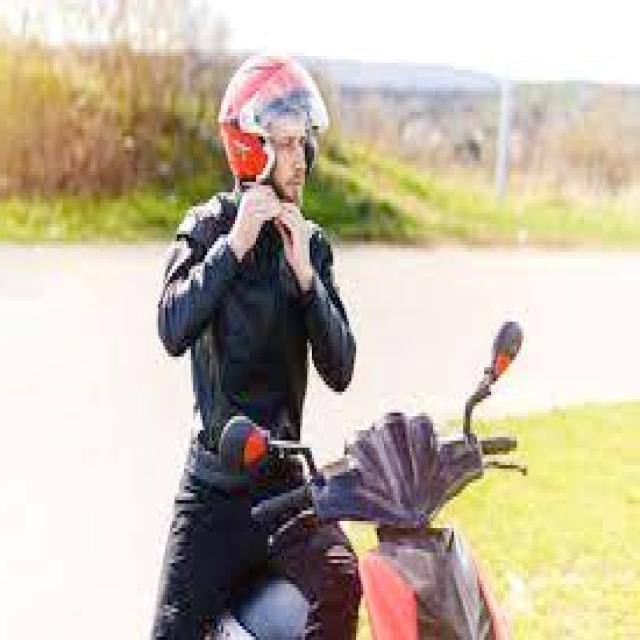helmet: (212, 39, 334, 191)
